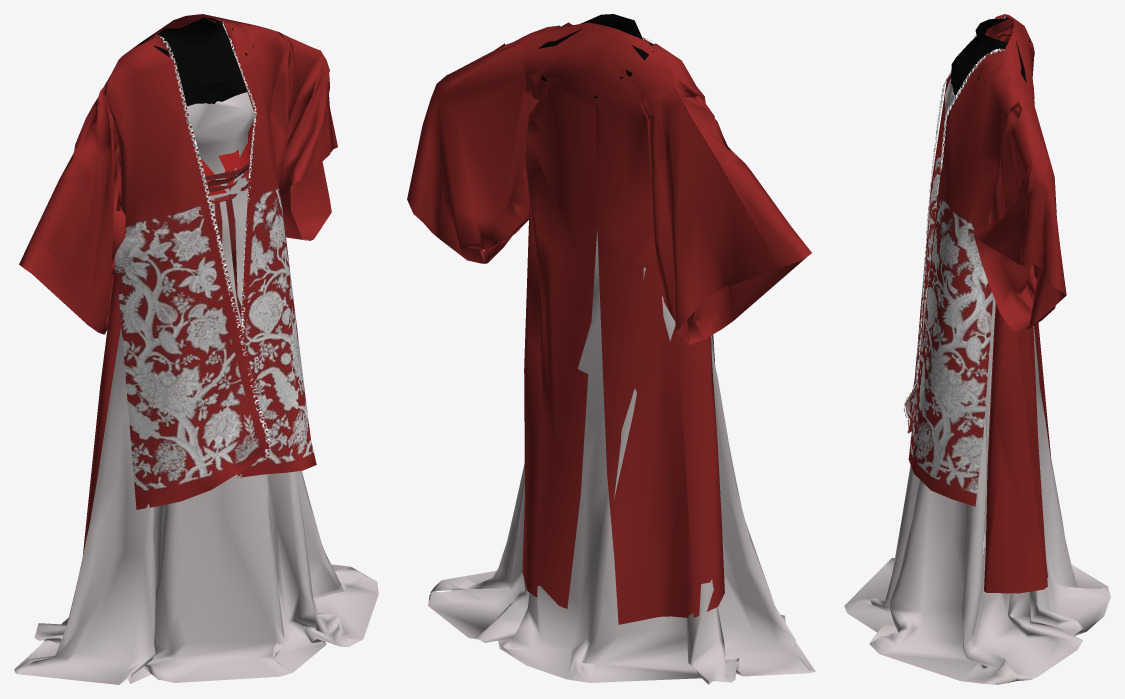
Rendered from dress_kimono.glb.
The picture shows the model from 3 angles, left to right: view 1: azimuth 30°, elevation 25°; view 2: azimuth 150°, elevation 25°; view 3: azimuth 270°, elevation 25°; orthographic projection. The views are drawn at different scales.
Parts seen in each view (by area): view 1: Cloth; view 2: Cloth; view 3: Cloth.
Boxes of the visible parts, box(x1,y1,x2,y2) form: Cloth: box(14, 14, 378, 684); Cloth: box(407, 14, 815, 684); Cloth: box(844, 14, 1110, 684).
Size of the model in its own units: 101 by 159 by 66.14.
Materials: 1 (1 with a texture image).
